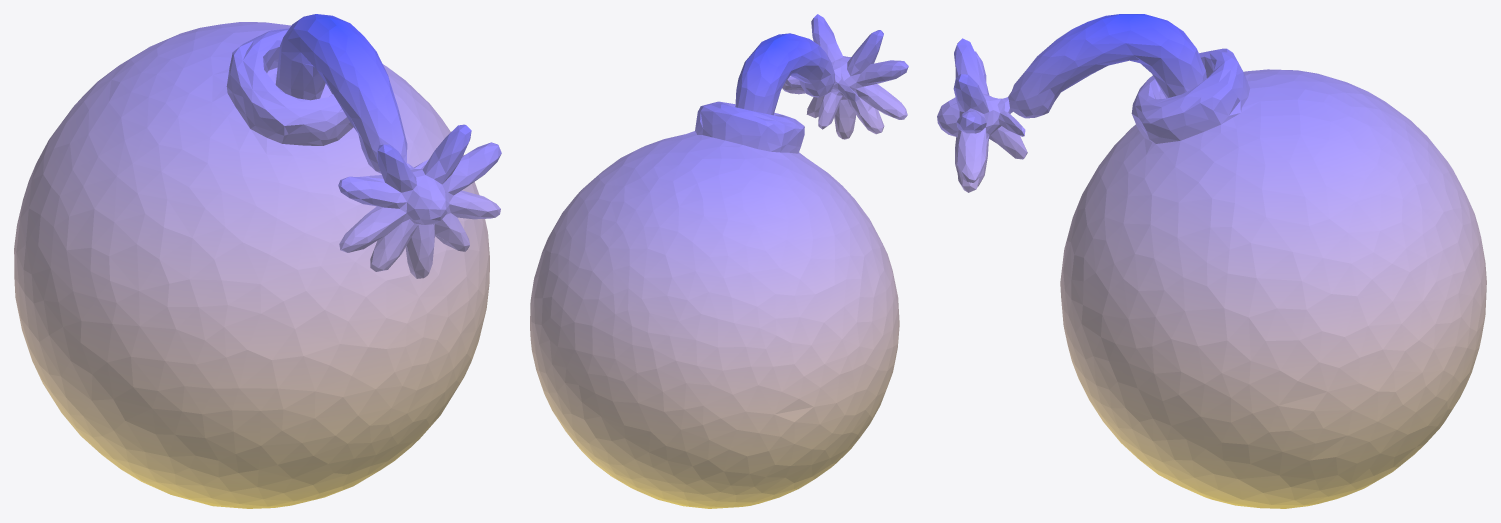
The model's file is 177_cyb_laser_gradient_fish_scales_2957_2026_10_03_7961e9.glb.
3 views of the same model, side by side, from view 1: azimuth 30°, elevation 25°; view 2: azimuth 150°, elevation 25°; view 3: azimuth 270°, elevation 25° (orthographic). The views are drawn at different scales.
Visible parts, largest first — view 1: geometry_0; view 2: geometry_0; view 3: geometry_0.
Part boxes in pixels (box(x1,y1,x2,y2)): geometry_0: box(14, 14, 501, 508); geometry_0: box(530, 14, 908, 508); geometry_0: box(937, 14, 1486, 508).
Size of the model in its own units: 0.7853 by 0.9536 by 1.
